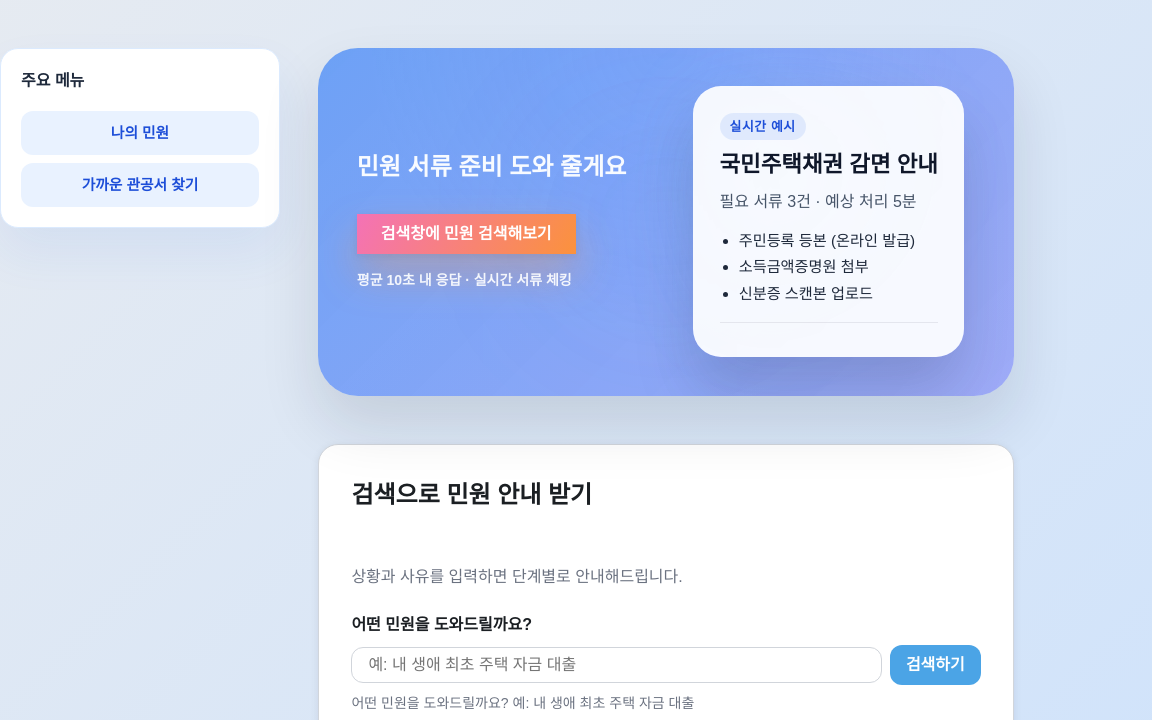
Test case: HomePage chatbot guidance › renders CIVIL_PETITION_INFO results as cards after a successful search
Type "내 생애 최초 주택 자금 대출" into the field labelled "어떤 민원을 도와드릴까요?" at (617, 665), box top-left (351, 647), bottom-right (882, 683)
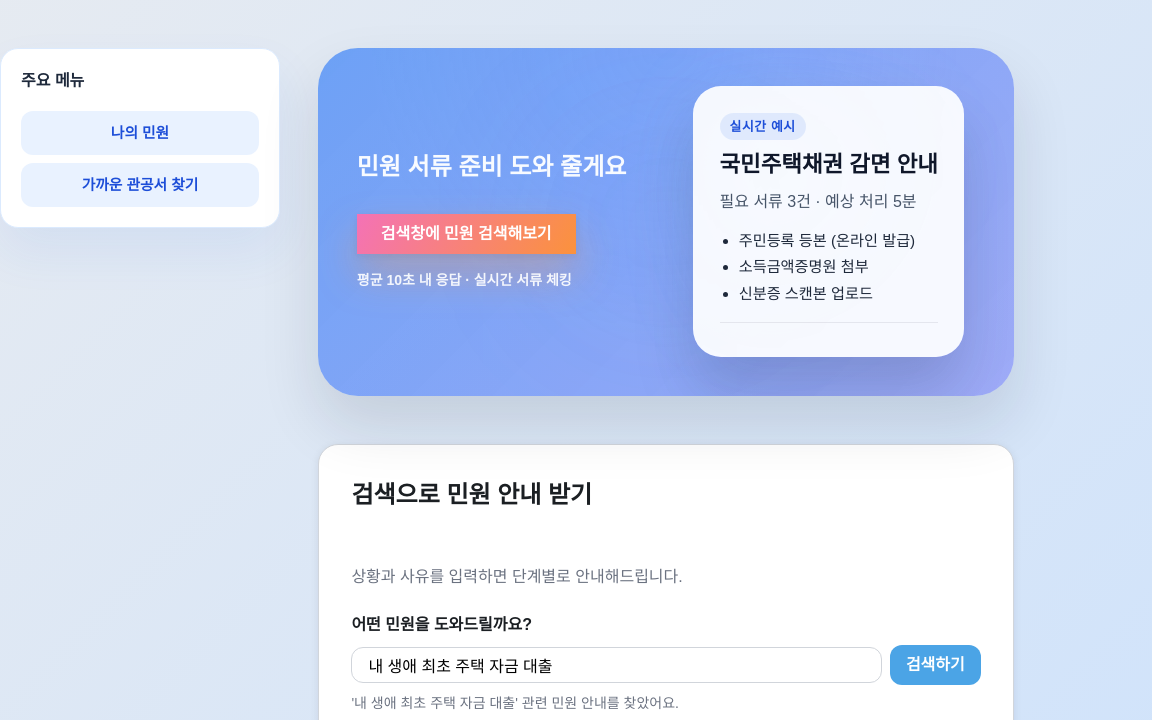
Submit the form labelled "어떤 민원을 도와드릴까요?", box top-left (351, 613), bottom-right (981, 714)
(page scrolled)
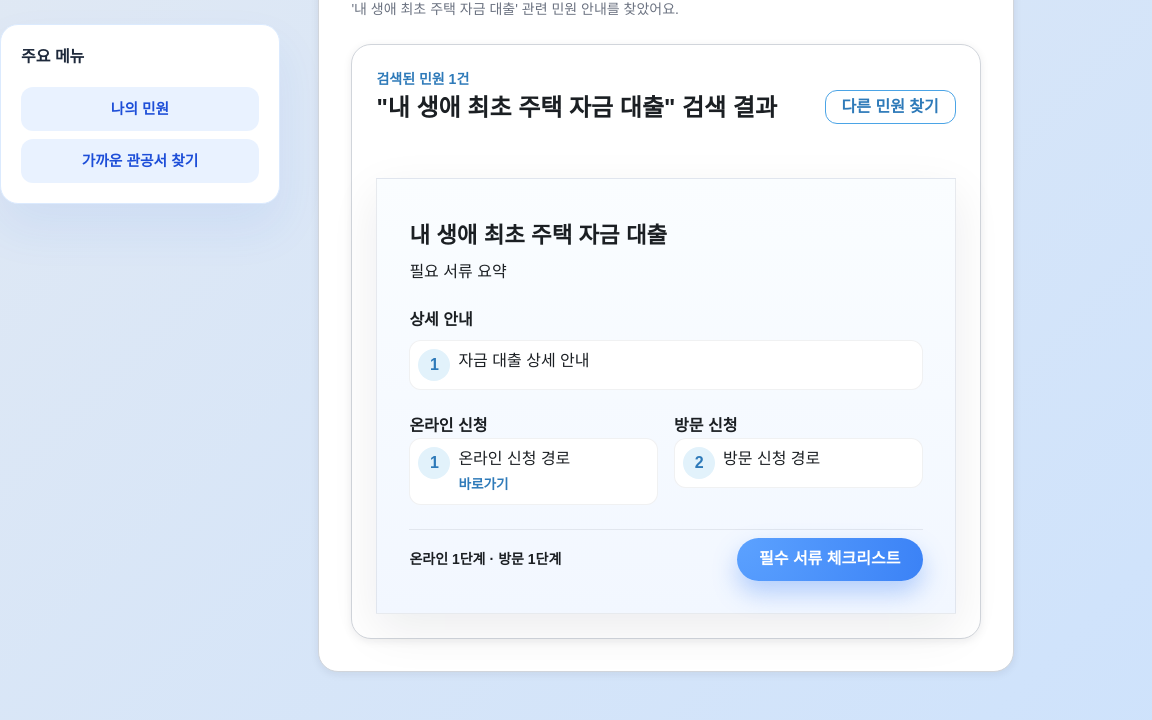
Expected: the heading "\"내 생애 최초 주택 자금 대출\" 검색 결과" is shown, top-left (376, 90), bottom-right (777, 126)
Expected: the heading "내 생애 최초 주택 자금 대출" is shown, top-left (409, 223), bottom-right (667, 248)
Expected: the text "필요 서류 요약" is shown, top-left (409, 263), bottom-right (507, 280)
